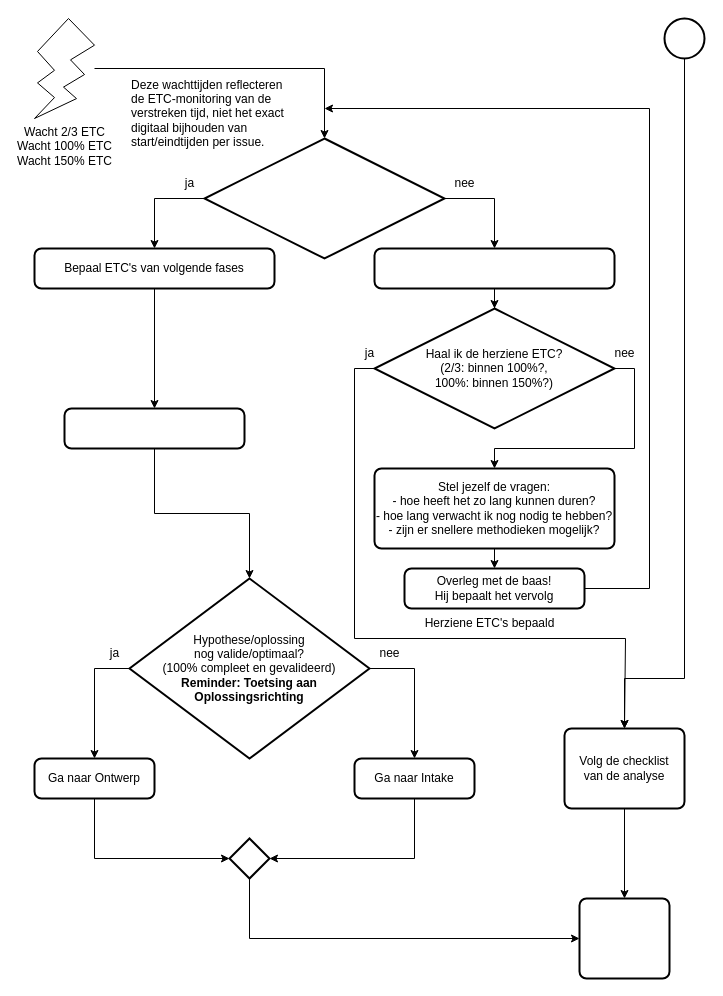
Some shapes in this 723 by 996 pixel diagram are drawn without their labels. Each missing label, with the centre of its shape:
Ga naar volgende processtap: [624,938]
Heb ik in de checklist bij de analyse alle vinkjes afgevinkt?: [324,198]
In de checklist bij de analyse vul je het vakje opnieuw in: [494,268]
Overleg ETC's met de baas!: [154,428]
